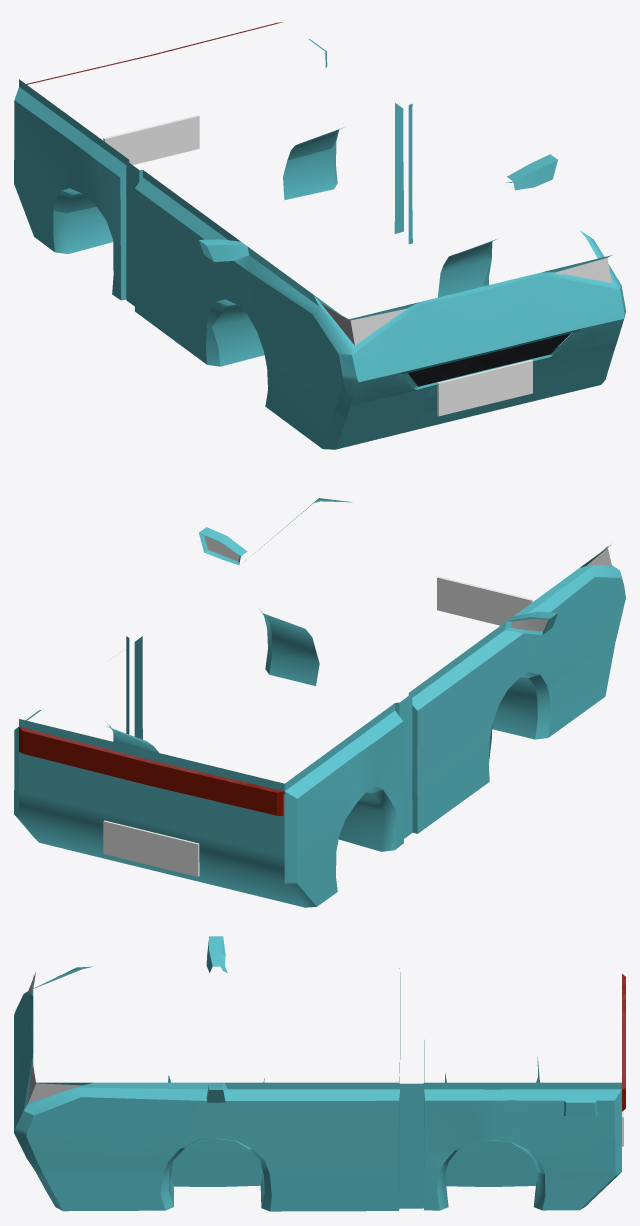
The model's file is EV_BOTTOM.glb.
3 views of the same model, one above another, from view 1: azimuth 30°, elevation 25°; view 2: azimuth 150°, elevation 25°; view 3: azimuth 270°, elevation 25° (orthographic). The views are drawn at different scales.
Bounding box in the file's own units: 1.98 × 0.8247 × 3.34.
2 materials, 2 textured.
